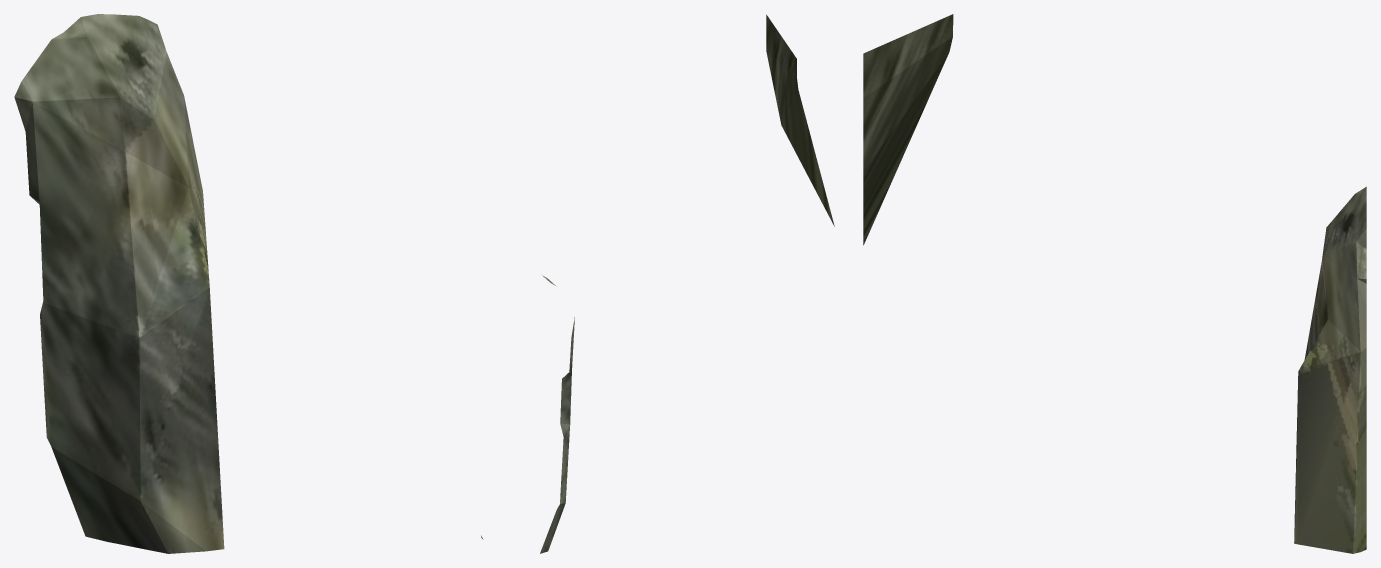
The picture shows the model from 3 angles, left to right: view 1: azimuth 30°, elevation 25°; view 2: azimuth 150°, elevation 25°; view 3: azimuth 270°, elevation 25°; orthographic projection. The views are drawn at different scales.
Bounding box in the file's own units: 1.16 × 2.95 × 2.95.
1 material, 1 textured.
